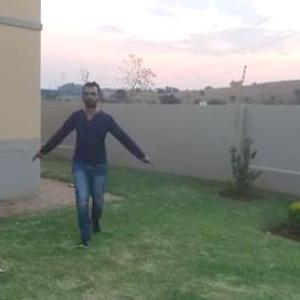land: (46, 86, 151, 220)
